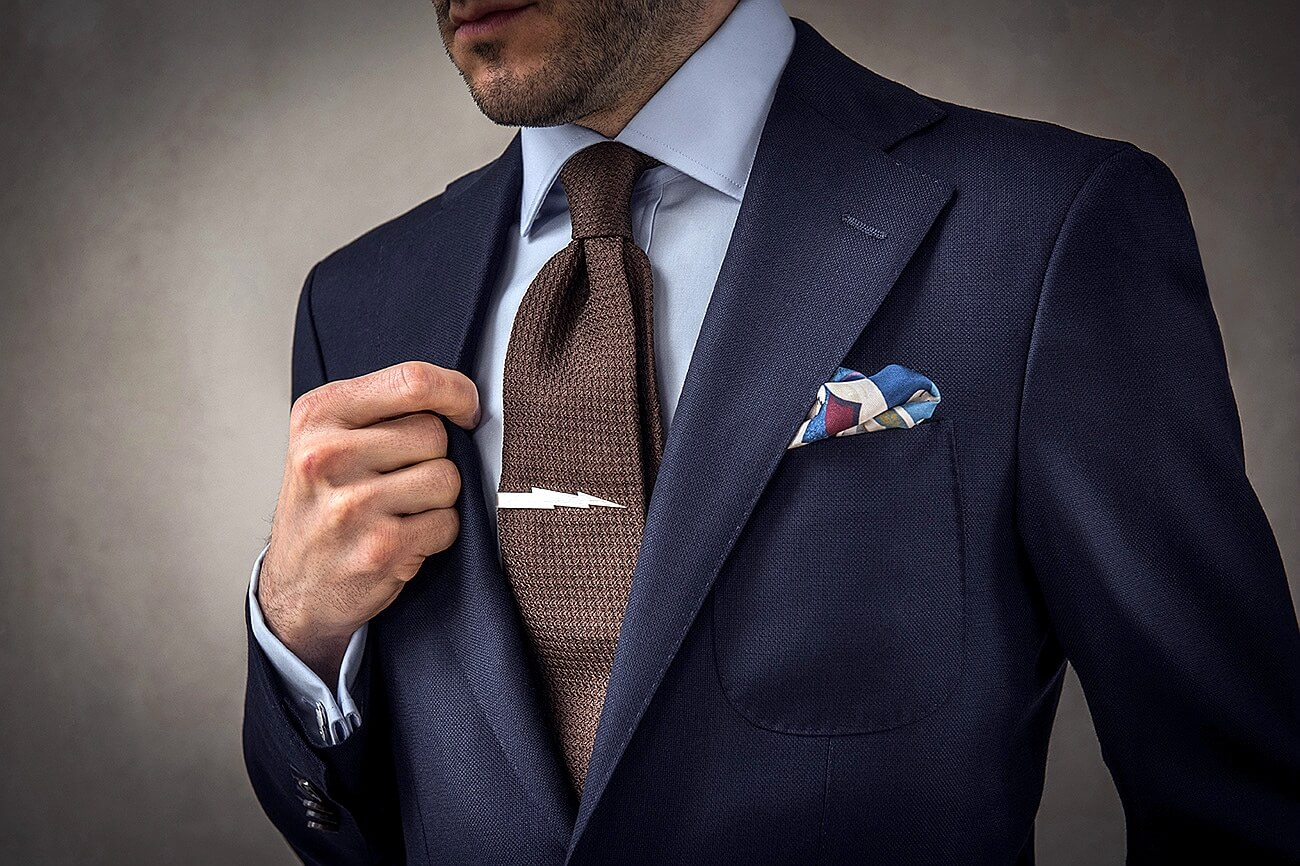tie: (478, 138, 709, 801)
